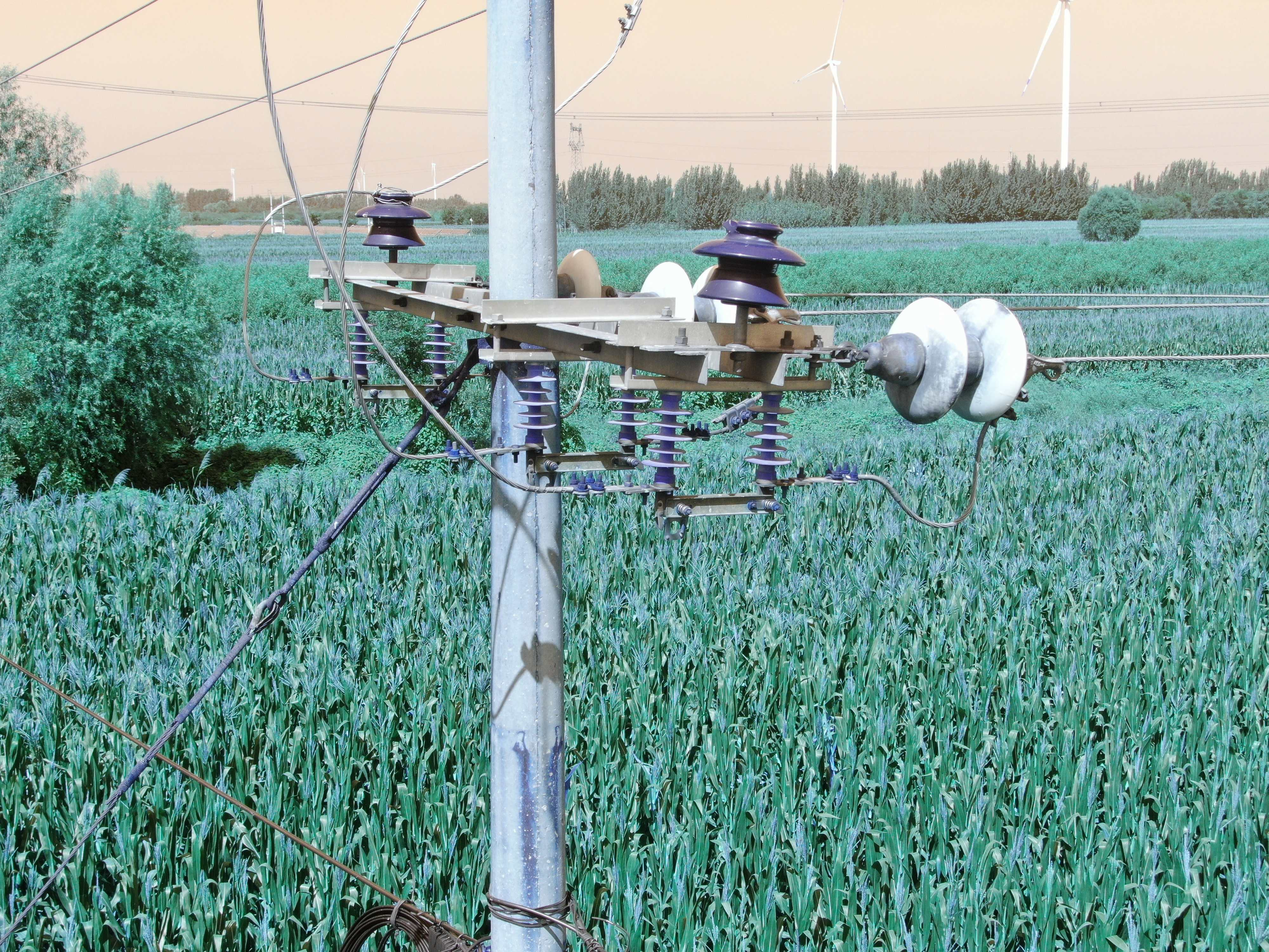severe_soiling_no_discharge_whole: (868, 293, 1034, 425)
